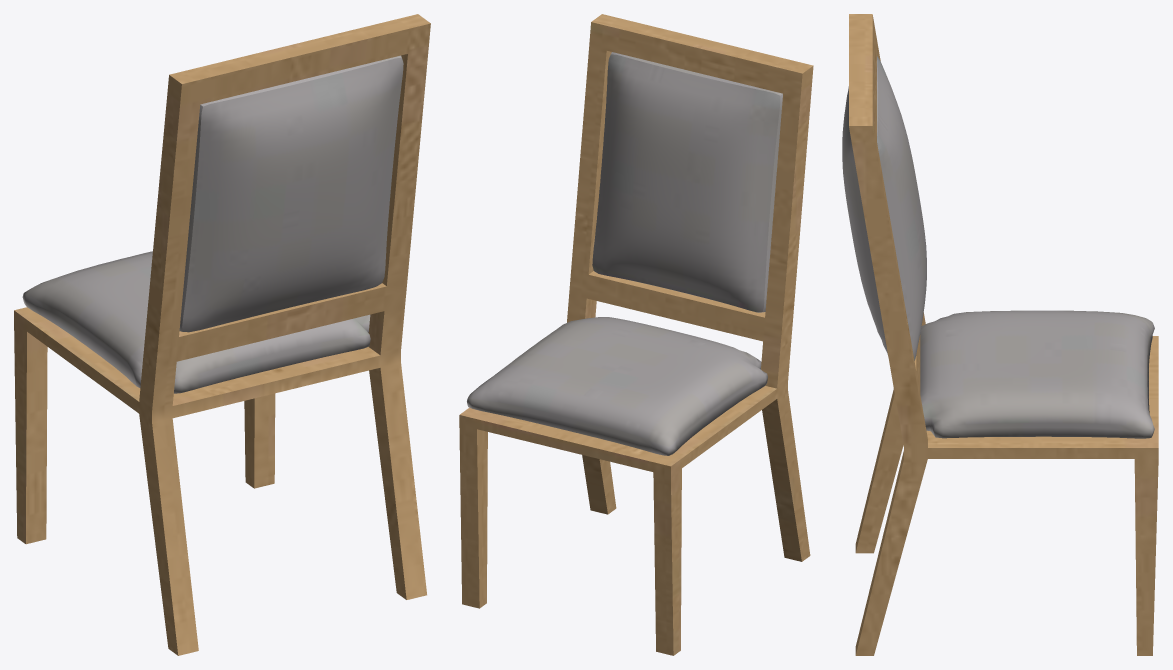
File: Chair03.glb
The picture shows the model from 3 angles, left to right: view 1: azimuth 30°, elevation 25°; view 2: azimuth 150°, elevation 25°; view 3: azimuth 270°, elevation 25°; orthographic projection. The views are drawn at different scales.
Parts seen in each view (by area): view 1: Chair03_model; view 2: Chair03_model; view 3: Chair03_model.
Boxes of the visible parts, left/top/right/bottom form: Chair03_model: left=14, top=14, right=430, bottom=655; Chair03_model: left=459, top=14, right=813, bottom=655; Chair03_model: left=842, top=14, right=1158, bottom=655.
Bounding box in the file's own units: 0.9035 × 1.99 × 1.08.
Materials: 1 (1 with a texture image).
